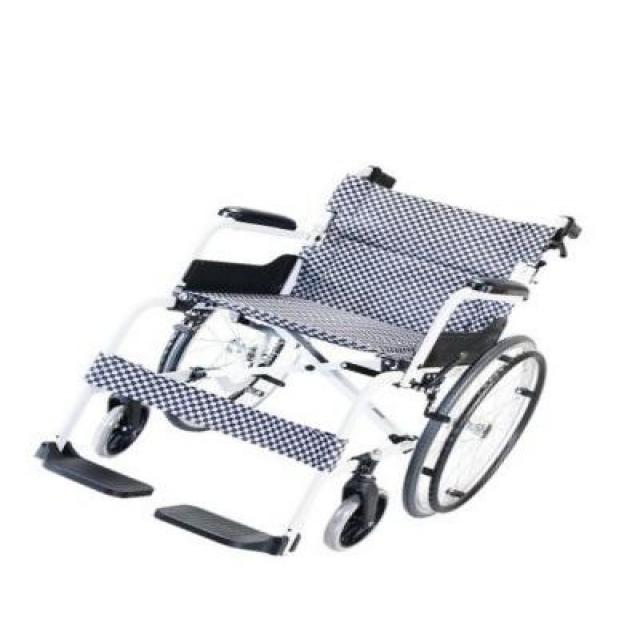wheelchair: (21, 146, 588, 566)
